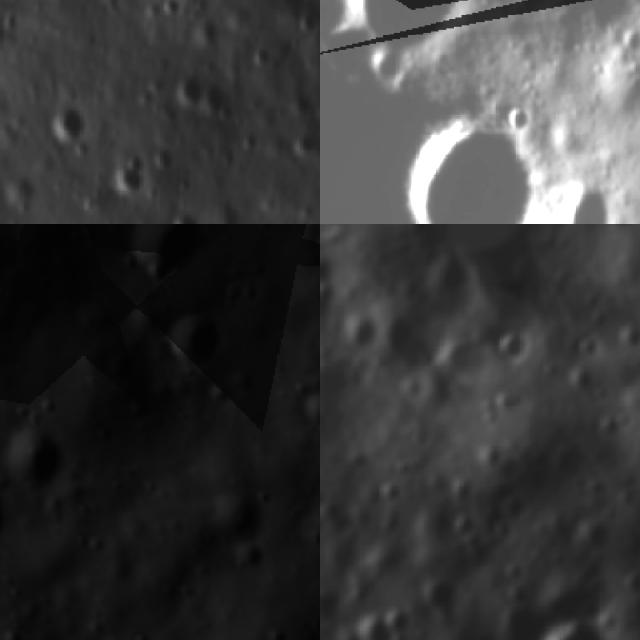crater: (378, 224, 572, 326), (403, 126, 538, 224), (324, 0, 473, 58), (123, 224, 192, 294), (382, 309, 446, 384), (5, 429, 68, 486), (521, 610, 633, 640), (159, 56, 206, 117), (47, 93, 98, 149), (541, 187, 618, 224), (320, 350, 361, 416), (106, 150, 152, 204), (164, 318, 213, 368), (416, 571, 461, 619), (435, 337, 481, 382), (494, 330, 533, 372), (345, 314, 379, 360), (497, 494, 533, 531), (166, 195, 207, 224), (285, 128, 317, 165), (446, 475, 479, 509), (382, 604, 413, 640), (593, 413, 627, 445), (352, 611, 389, 640), (572, 333, 604, 365), (612, 568, 640, 604), (103, 350, 135, 381), (378, 478, 409, 509), (492, 457, 522, 488), (448, 512, 477, 542), (320, 589, 343, 626), (491, 515, 516, 543), (301, 392, 320, 427), (601, 224, 635, 235), (126, 637, 154, 640)
